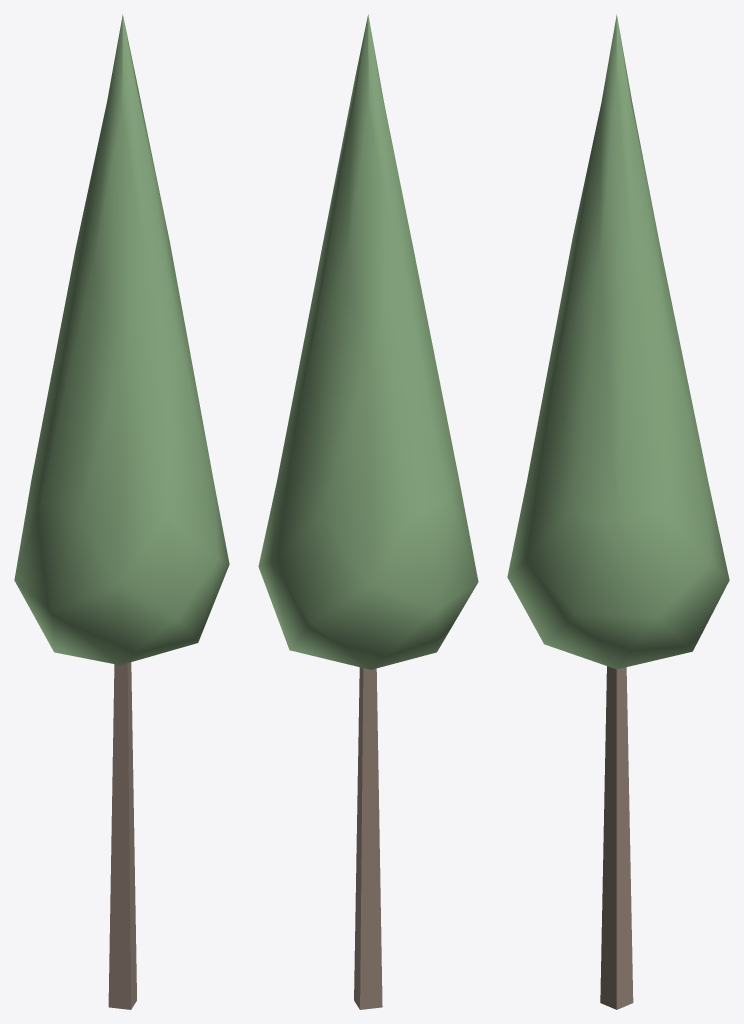
The model's file is tree-conifer-c-far.glb.
3 views of the same model, side by side, from view 1: azimuth 30°, elevation 25°; view 2: azimuth 150°, elevation 25°; view 3: azimuth 270°, elevation 25° (orthographic).
Parts seen in each view (by area): view 1: tree-conifer-c-far; view 2: tree-conifer-c-far; view 3: tree-conifer-c-far.
Part boxes in pixels (<box>): tree-conifer-c-far: <box>14,14,229,1009</box>; tree-conifer-c-far: <box>258,14,478,1009</box>; tree-conifer-c-far: <box>507,14,729,1009</box>.
Bounding box in the file's own units: 0.1906 × 1 × 0.2037.
